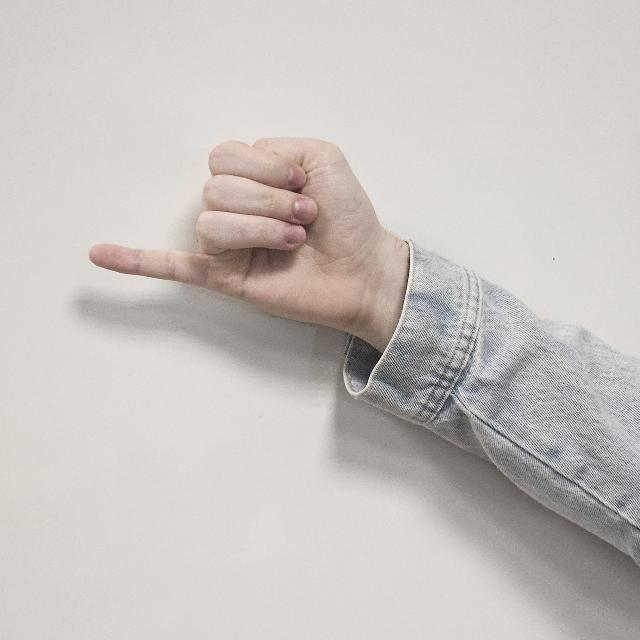Esquerda: (79, 103, 385, 367)
